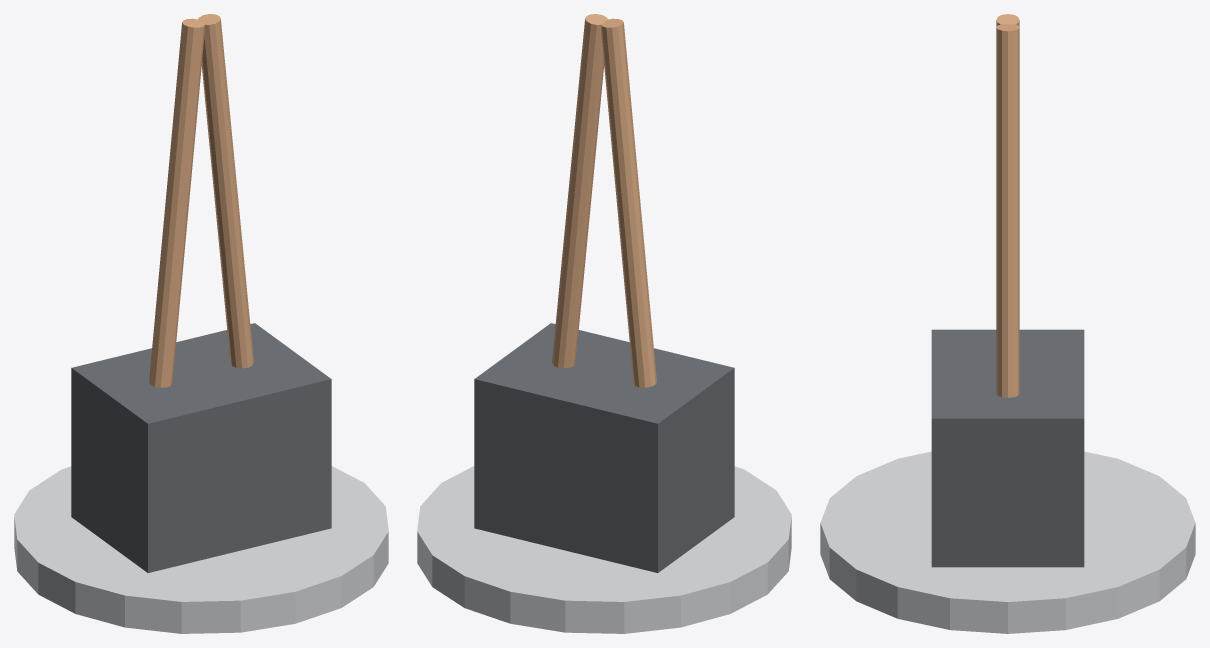
Rendered from welder.glb.
3 renders of one model, left to right at view 1: azimuth 30°, elevation 25°; view 2: azimuth 150°, elevation 25°; view 3: azimuth 270°, elevation 25°, orthographic.
Visible parts, largest first — view 1: block, plate, rod_a, rod_b; view 2: block, plate, rod_a, rod_b; view 3: plate, block, rod_b.
Boxes of the visible parts, left/top/right/bottom form: block: left=71, top=323, right=331, bottom=572; plate: left=14, top=466, right=388, bottom=633; rod_a: left=149, top=18, right=204, bottom=387; rod_b: left=198, top=14, right=253, bottom=368; block: left=474, top=323, right=734, bottom=572; plate: left=417, top=466, right=791, bottom=633; rod_a: left=601, top=18, right=656, bottom=387; rod_b: left=552, top=14, right=607, bottom=368; plate: left=820, top=451, right=1195, bottom=633; block: left=931, top=329, right=1084, bottom=567; rod_b: left=996, top=24, right=1019, bottom=397.
Size of the model in its own units: 0.064 by 0.1002 by 0.064.
